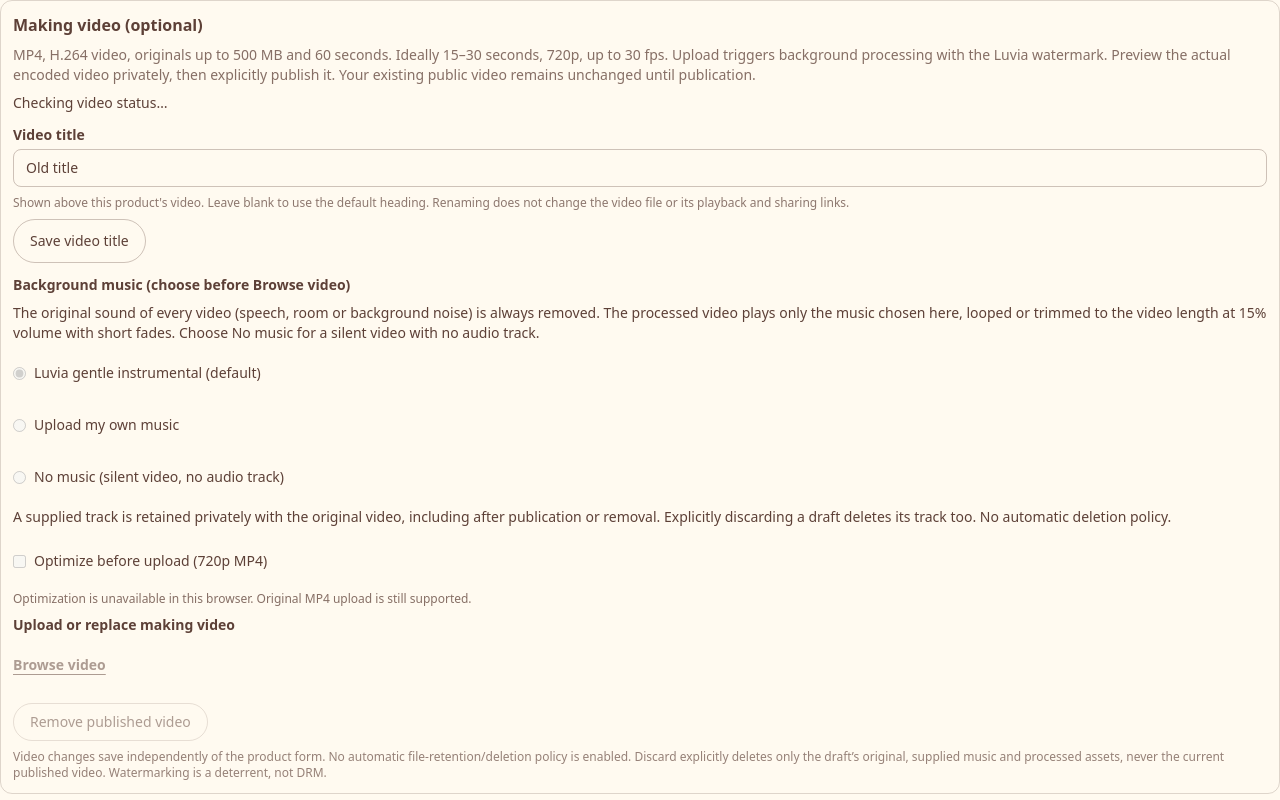
Test: saves an individual video title independently of uploading or publishing
The image size is (1280, 800).
Check: the button "Save video title" is enabled, box [13,219,146,263]
Replace the text in the field labelled "Video title" with "  Making a rose  " at (640, 168), box [13,149,1267,187]
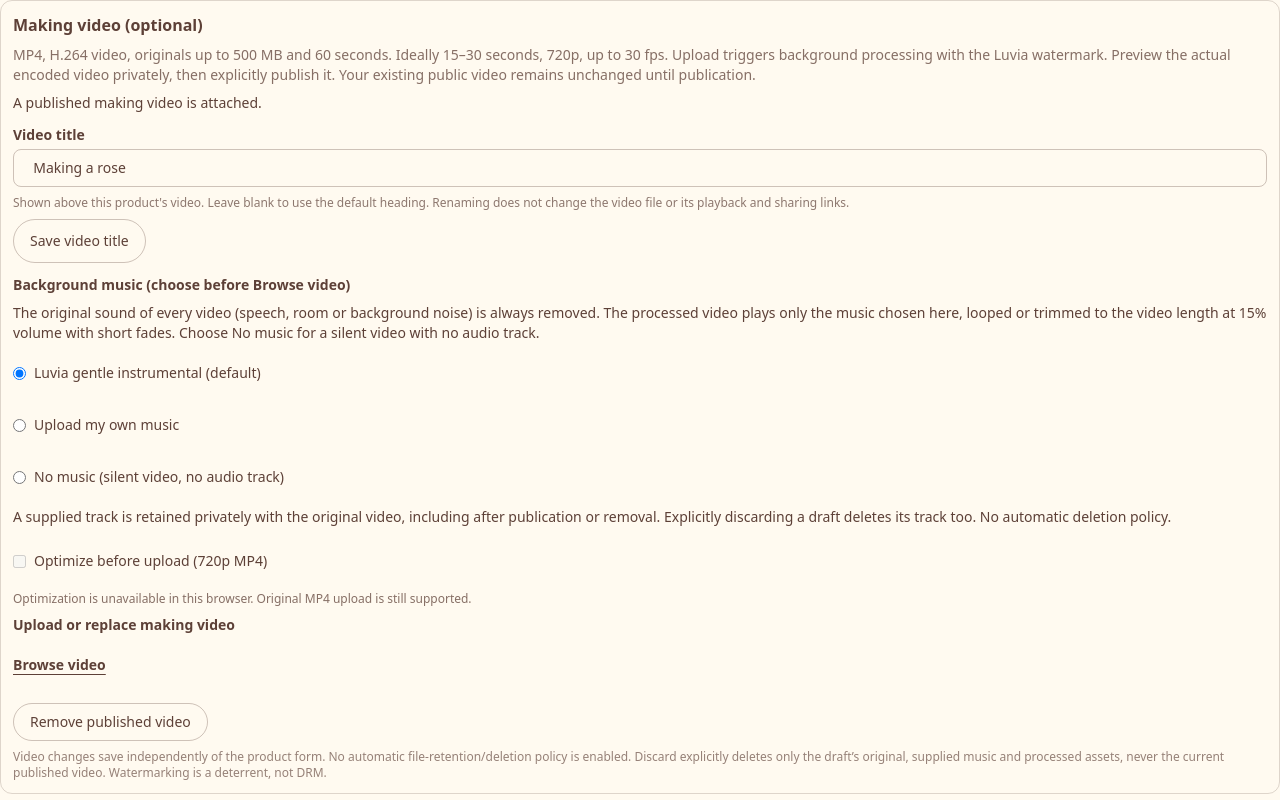
Click the button "Save video title" at (79, 241), box [13,219,146,263]
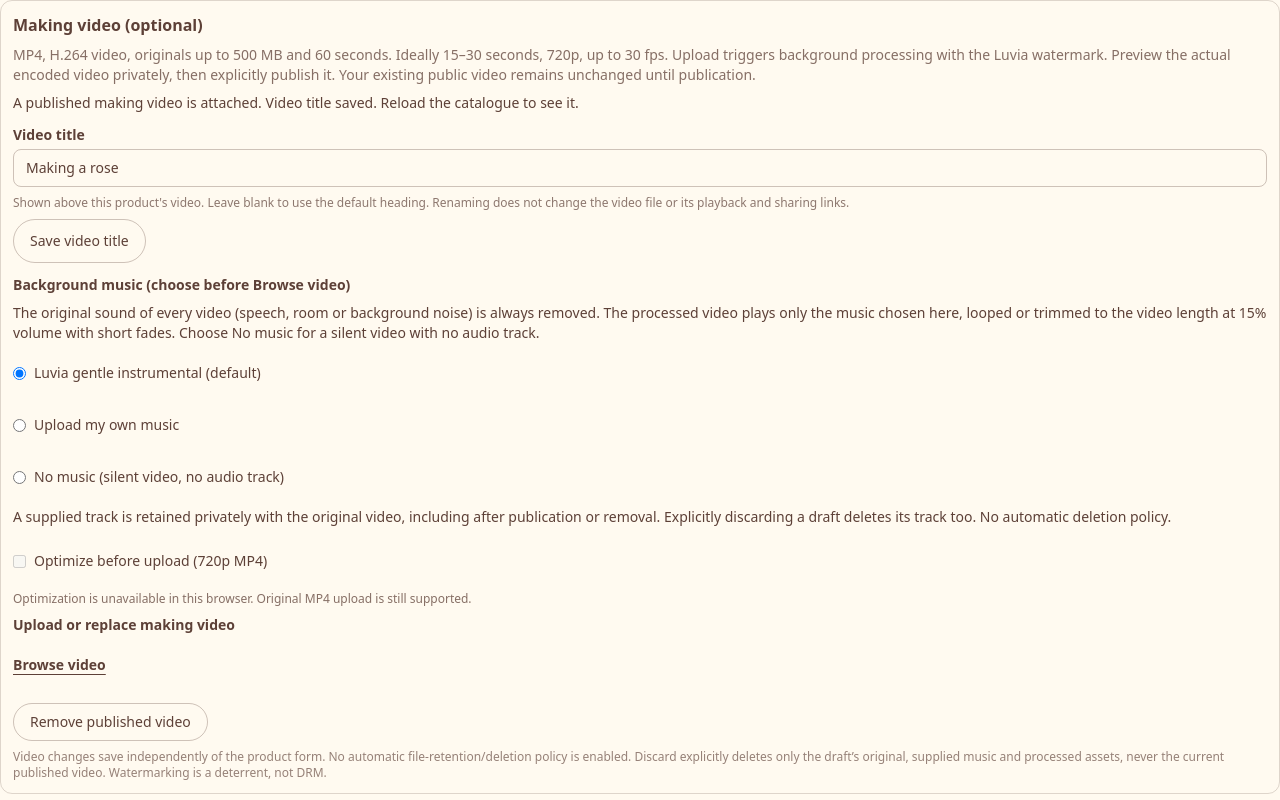
Check: the message shows "Video title saved", box [262,93,579,112]
